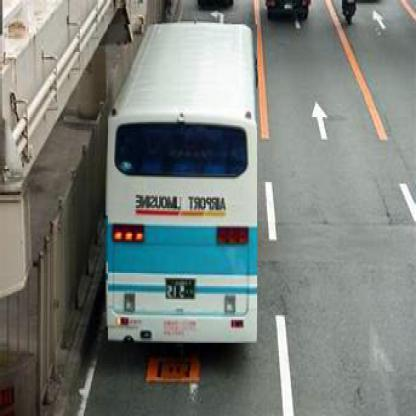bus: (108, 26, 258, 346)
